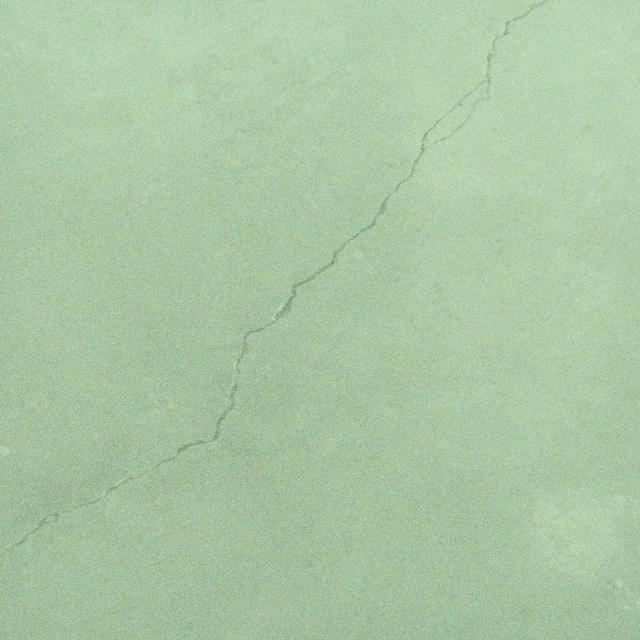crack: (0, 0, 548, 558)
